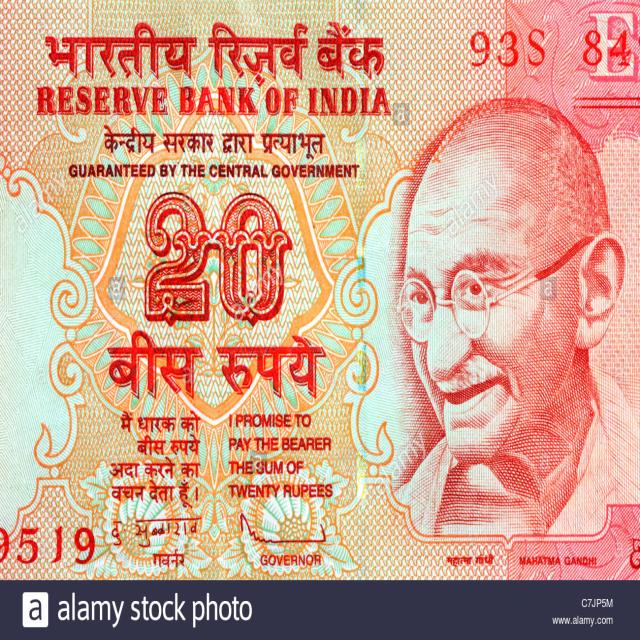20rs: (1, 0, 640, 580)
